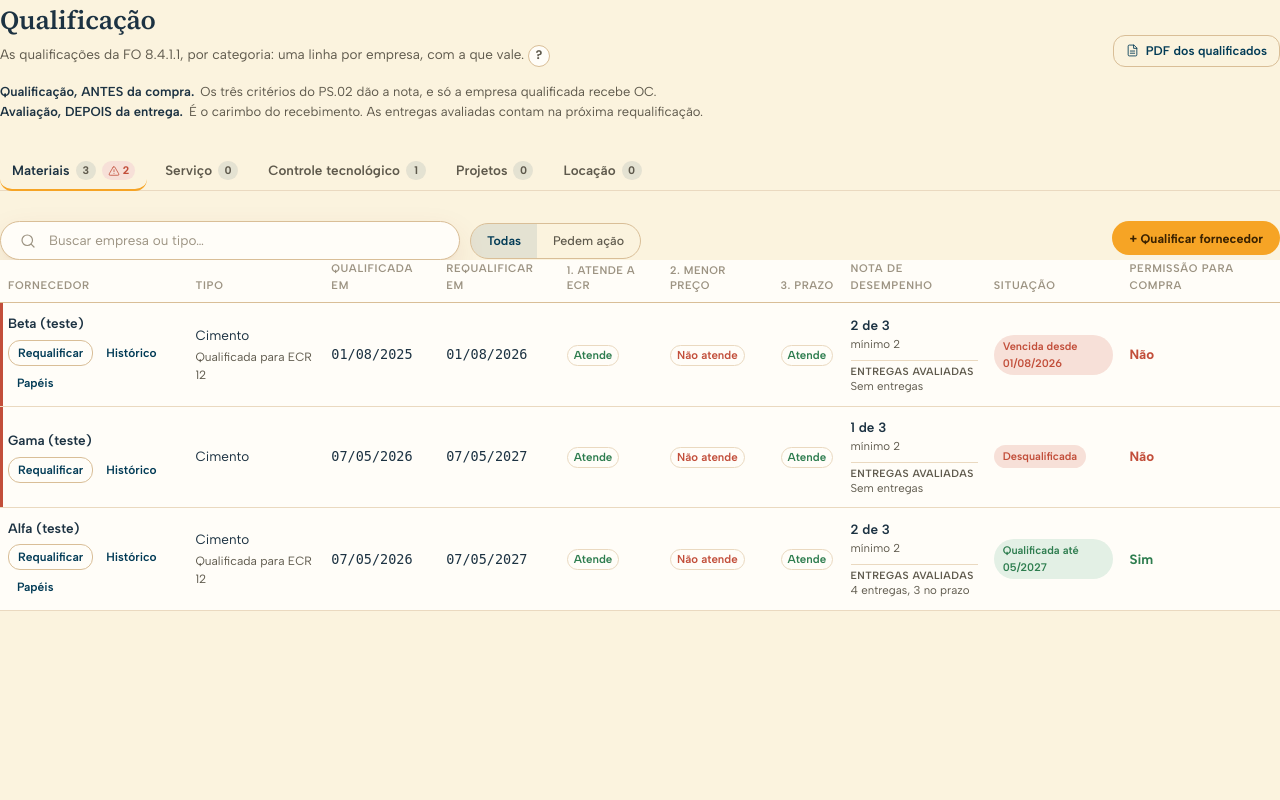
Test: CTO-D661 — as colunas da planilha › o critério: "atende" ou "não atende", o texto e o motivo no passar do mouse e num clique
What coordinates should you click on to do the following:
click the button "Não atende" in the row of "Qualificada até 05/2027"
I would click on:
 (707, 559)
Its box is [670,549,745,570].
(page scrolled)
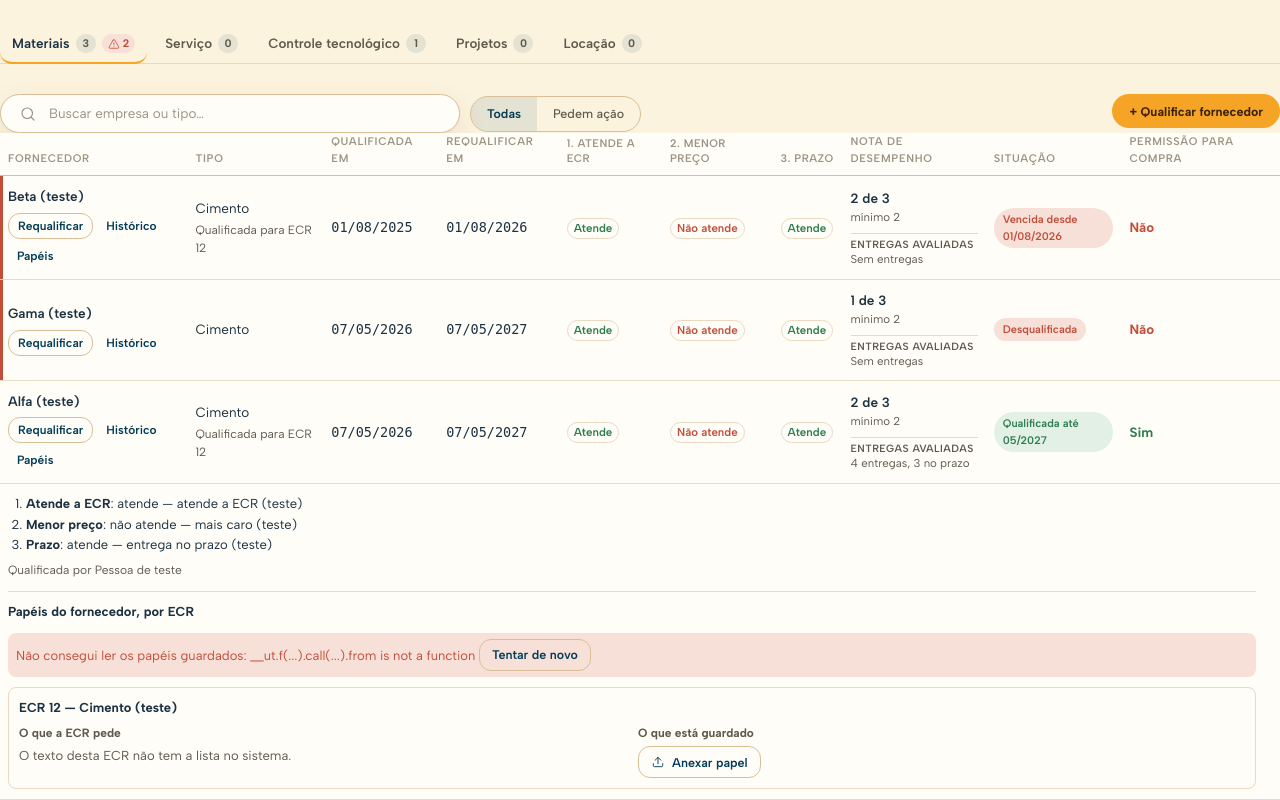
Expected: the row that starts with "Atende a ECR" shows "Atende a ECR: atende — atende a ECR (teste)", [0,484,1279,799]
Expected: the row that starts with "Atende a ECR" shows "Menor preço: não atende — mais caro (teste)", [0,484,1279,799]
Expected: the row that starts with "Atende a ECR" shows "Qualificada por Pessoa de teste", [8,563,182,577]
